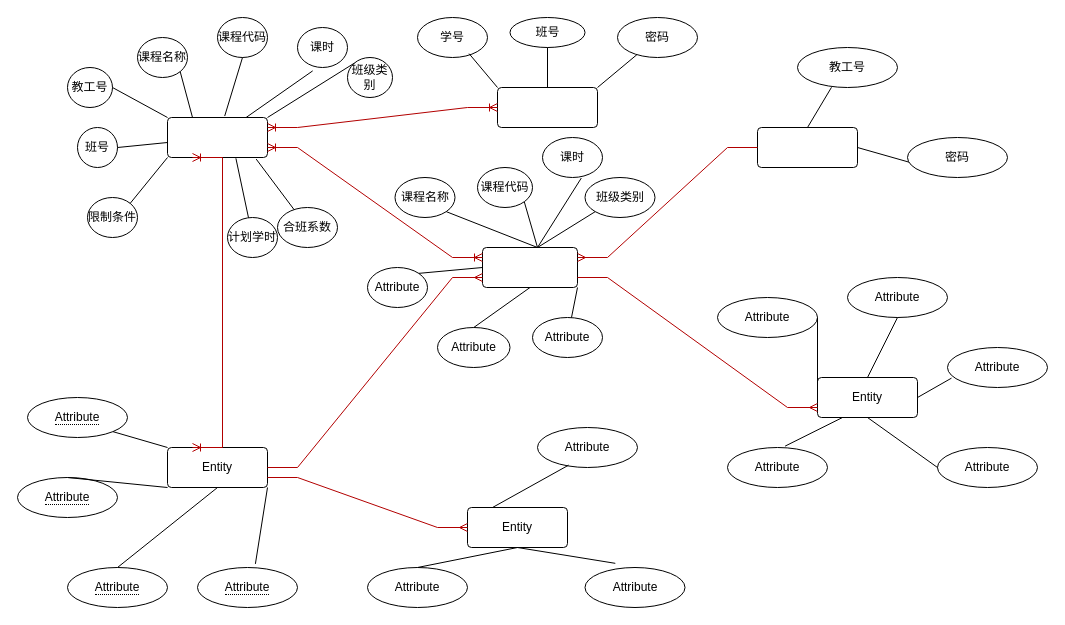
This 1065x625 diagram has some shape labels left out. The shapes that lost their labels are listed below. From the top down, each one's centre as x and y in pixels, then its label:
point 547,107: 学生
point 217,137: 课程
point 807,147: 教务人员
point 530,267: 教学计划
